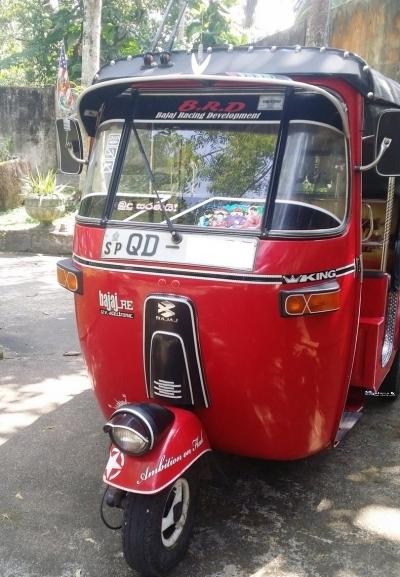threewheel: (55, 45, 400, 577)
